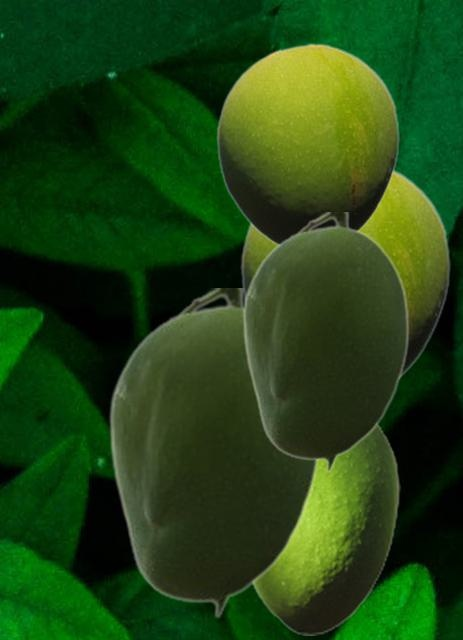green_mango: (107, 288, 319, 618), (240, 169, 450, 381), (241, 212, 408, 472), (216, 43, 399, 244), (251, 421, 399, 634)
